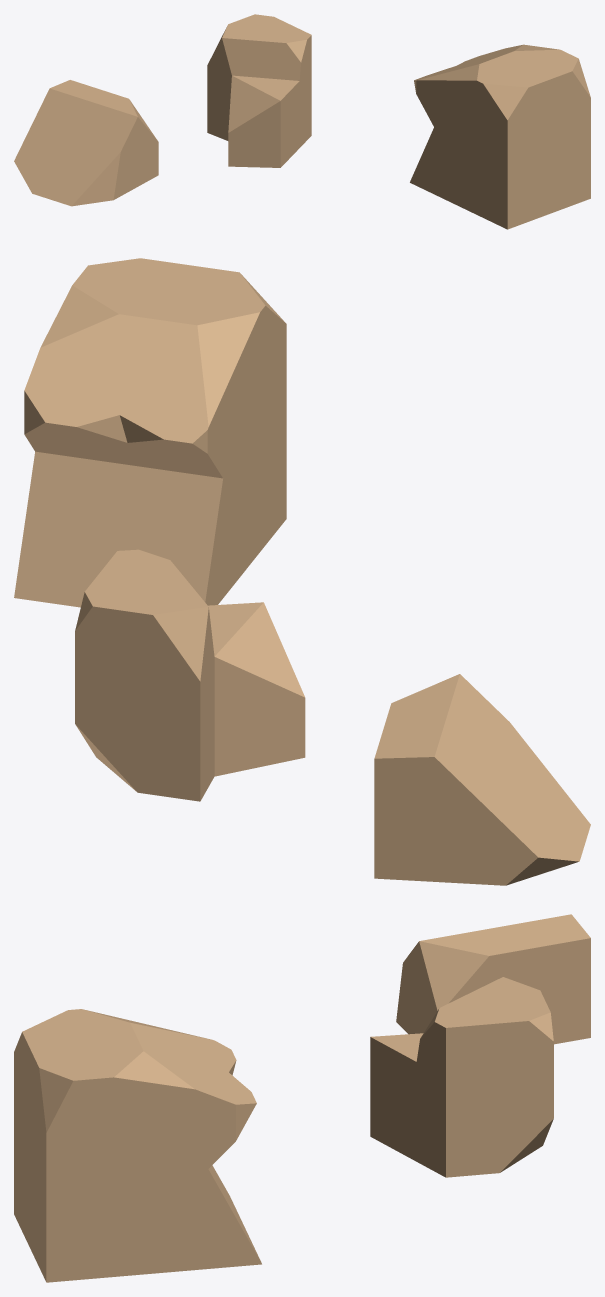
Rendered from Prop_Rubble_1.fbx.
The picture shows the model from 3 angles, top to bottom: view 1: azimuth 30°, elevation 25°; view 2: azimuth 150°, elevation 25°; view 3: azimuth 270°, elevation 25°; orthographic projection. The views are drawn at different scales.
Parts seen in each view (by area): view 1: object2, object3, object1; view 2: object2, object3, object1; view 3: object2, object3, object1.
Part boxes in pixels (box(x1,y1,x2,y2)): object2: box(410, 44, 590, 229); object3: box(207, 14, 311, 167); object1: box(14, 80, 158, 206); object2: box(14, 258, 286, 607); object3: box(75, 549, 305, 801); object1: box(374, 674, 590, 885); object2: box(14, 1009, 261, 1282); object3: box(370, 977, 553, 1177); object1: box(396, 914, 590, 1044).
Bounding box in the file's own units: 0.6453 × 0.2 × 0.524.
